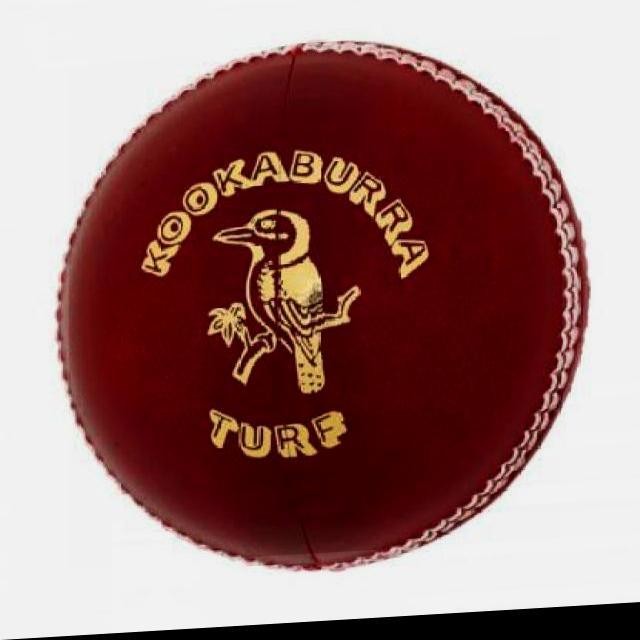-: (69, 42, 562, 569)
